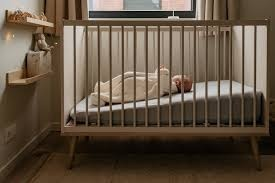baby: (91, 72, 133, 105)
crib: (61, 19, 269, 167)
